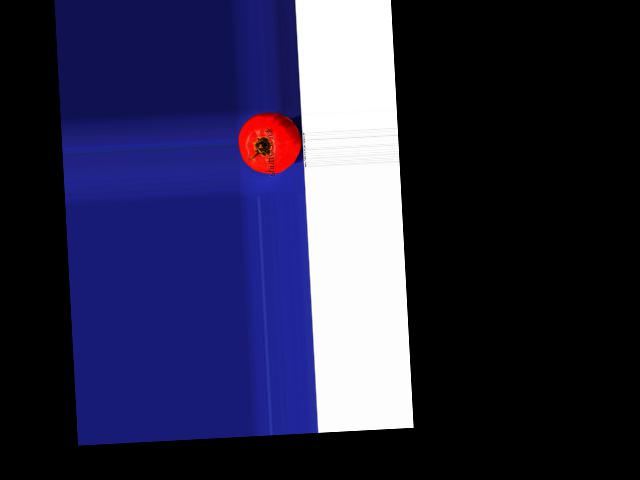tomato: (237, 110, 302, 175)
